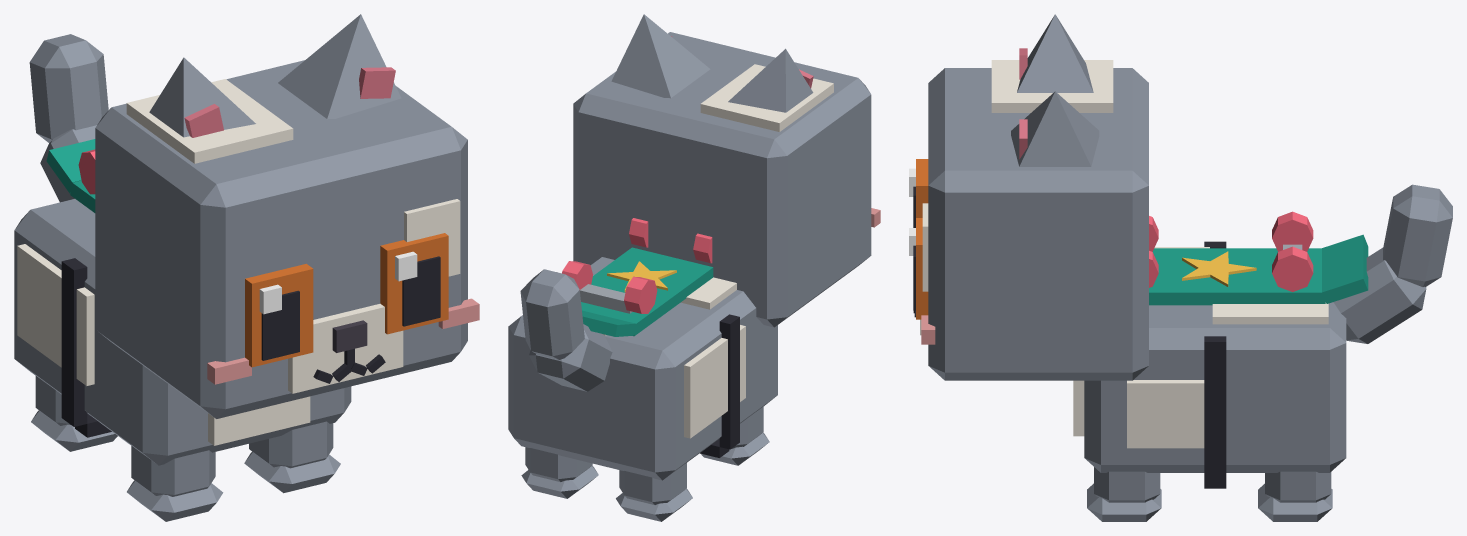
File: CatCafe_Cat_Munchkin.fbx
3 views of the same model, side by side, from view 1: azimuth 30°, elevation 25°; view 2: azimuth 150°, elevation 25°; view 3: azimuth 270°, elevation 25° (orthographic). The views are drawn at different scales.
Parts seen in each view (by area): view 1: CatCafe_Cat_Munchkin_Head, CatCafe_Cat_Munchkin_Body, CatCafe_Cat_Munchkin_Tail, CatCafe_Cat_Munchkin_EarL, CatCafe_Cat_Munchkin_Eye2, CatCafe_Cat_Munchkin_Prop, CatCafe_Cat_Munchkin_Eye1, CatCafe_Cat_Munchkin_LegF2, CatCafe_Cat_Munchkin_LegF1, CatCafe_Cat_Munchkin_EarR, CatCafe_Cat_Munchkin_LegB2; view 2: CatCafe_Cat_Munchkin_Head, CatCafe_Cat_Munchkin_Body, CatCafe_Cat_Munchkin_Prop, CatCafe_Cat_Munchkin_Tail, CatCafe_Cat_Munchkin_EarL, CatCafe_Cat_Munchkin_EarR, CatCafe_Cat_Munchkin_LegB2, CatCafe_Cat_Munchkin_LegB1, CatCafe_Cat_Munchkin_LegF2; view 3: CatCafe_Cat_Munchkin_Head, CatCafe_Cat_Munchkin_Body, CatCafe_Cat_Munchkin_Prop, CatCafe_Cat_Munchkin_Tail, CatCafe_Cat_Munchkin_EarL, CatCafe_Cat_Munchkin_EarR, CatCafe_Cat_Munchkin_LegF1, CatCafe_Cat_Munchkin_LegB1, CatCafe_Cat_Munchkin_Eye1, CatCafe_Cat_Munchkin_Eye2.
Boxes of the visible parts, box(x1,y1,x2,y2) form: CatCafe_Cat_Munchkin_Head: box(95, 60, 479, 418); CatCafe_Cat_Munchkin_Body: box(14, 199, 351, 465); CatCafe_Cat_Munchkin_Tail: box(29, 34, 108, 202); CatCafe_Cat_Munchkin_EarL: box(278, 14, 401, 119); CatCafe_Cat_Munchkin_Eye2: box(245, 263, 313, 367); CatCafe_Cat_Munchkin_Prop: box(46, 139, 111, 437); CatCafe_Cat_Munchkin_Eye1: box(380, 233, 448, 334); CatCafe_Cat_Munchkin_LegF2: box(127, 446, 223, 521); CatCafe_Cat_Munchkin_LegF1: box(244, 421, 340, 493); CatCafe_Cat_Munchkin_EarR: box(149, 57, 255, 137); CatCafe_Cat_Munchkin_LegB2: box(31, 376, 117, 451); CatCafe_Cat_Munchkin_Head: box(573, 32, 880, 327); CatCafe_Cat_Munchkin_Body: box(508, 257, 777, 480); CatCafe_Cat_Munchkin_Prop: box(562, 218, 739, 457); CatCafe_Cat_Munchkin_Tail: box(520, 269, 612, 391); CatCafe_Cat_Munchkin_EarL: box(611, 14, 710, 98); CatCafe_Cat_Munchkin_EarR: box(728, 48, 813, 112); CatCafe_Cat_Munchkin_LegB2: box(616, 463, 692, 521); CatCafe_Cat_Munchkin_LegB1: box(521, 447, 598, 498); CatCafe_Cat_Munchkin_LegF2: box(701, 406, 769, 465); CatCafe_Cat_Munchkin_Head: box(913, 60, 1148, 380); CatCafe_Cat_Munchkin_Body: box(1073, 247, 1346, 472); CatCafe_Cat_Munchkin_Prop: box(1149, 211, 1368, 488); CatCafe_Cat_Munchkin_Tail: box(1333, 184, 1452, 343); CatCafe_Cat_Munchkin_EarL: box(1011, 91, 1099, 166); CatCafe_Cat_Munchkin_EarR: box(1017, 14, 1093, 92); CatCafe_Cat_Munchkin_LegF1: box(1087, 467, 1161, 521); CatCafe_Cat_Munchkin_LegB1: box(1258, 471, 1332, 521); CatCafe_Cat_Munchkin_Eye1: box(909, 218, 928, 319); CatCafe_Cat_Munchkin_Eye2: box(909, 159, 928, 227).
Size of the model in its own units: 1 by 1.74 by 1.97.
1 material, 1 textured.
